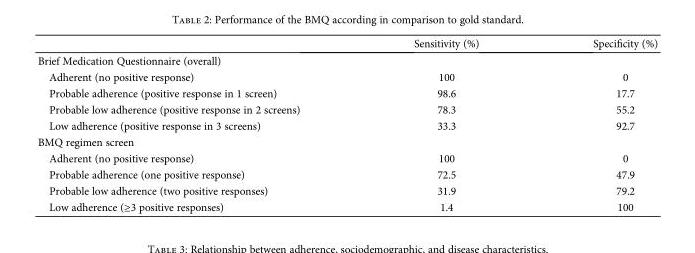table: (36, 36, 656, 214)
table column: (36, 36, 356, 214), (356, 36, 535, 214), (535, 36, 656, 214)
table column header: (36, 36, 656, 51)
table projected row header: (36, 51, 656, 68), (36, 133, 656, 149)
table row: (36, 51, 656, 68), (36, 84, 656, 101), (36, 149, 656, 166), (36, 68, 656, 84), (36, 101, 656, 117), (36, 117, 656, 133), (36, 133, 656, 149), (36, 166, 656, 182), (36, 182, 656, 198), (36, 198, 656, 214), (36, 36, 656, 51)
